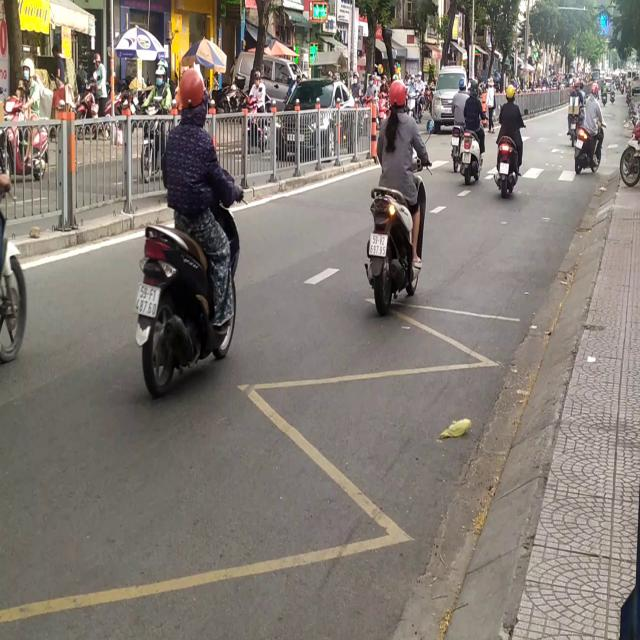bien_trang: (138, 283, 158, 318), (368, 232, 389, 260)
